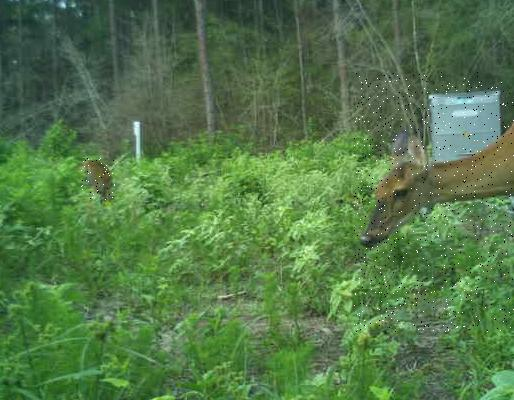Deer: (354, 72, 514, 332), (80, 158, 114, 200)
